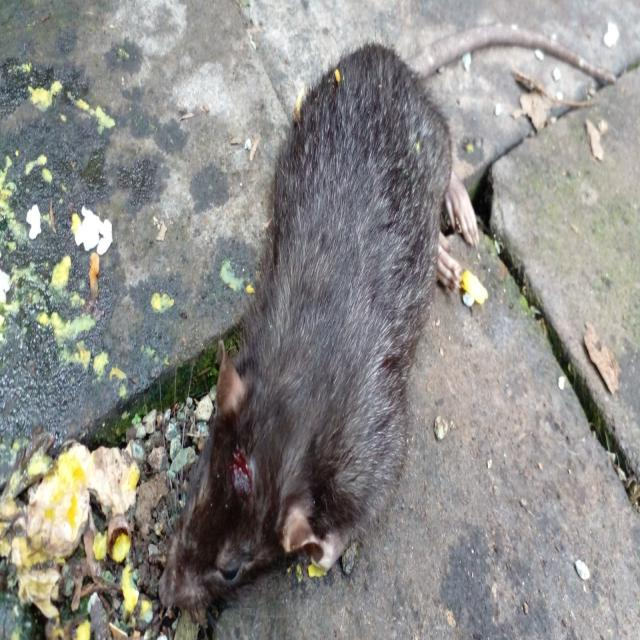rat: (156, 1, 489, 620)
